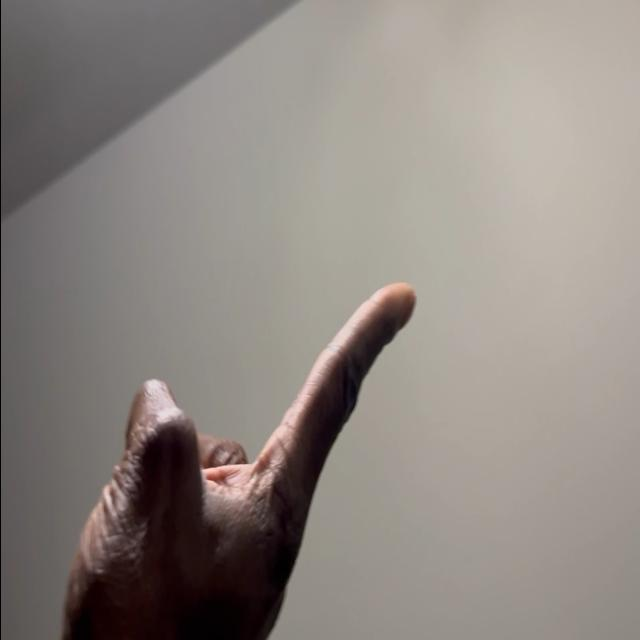Scissors: (61, 282, 419, 640)
